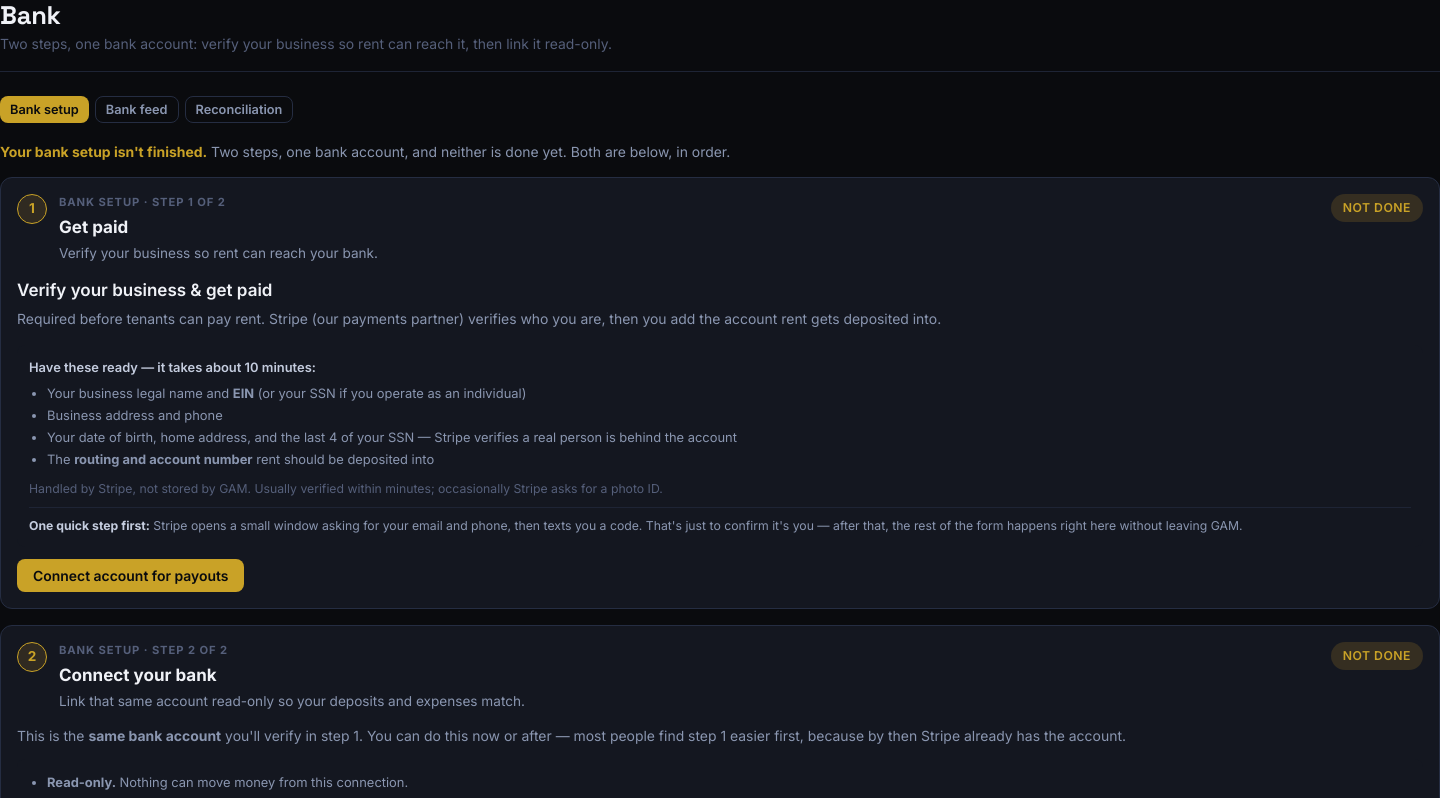
Test case: the chosen tab survives a refresh › writes ?tab=feed even though feed is the default
This screenshot has width=1440, height=798.
What coordinates should you click on to do the following:
click the button "Bank feed"
I would click on:
 (137, 109)
Its box is left=95, top=96, right=178, bottom=123.
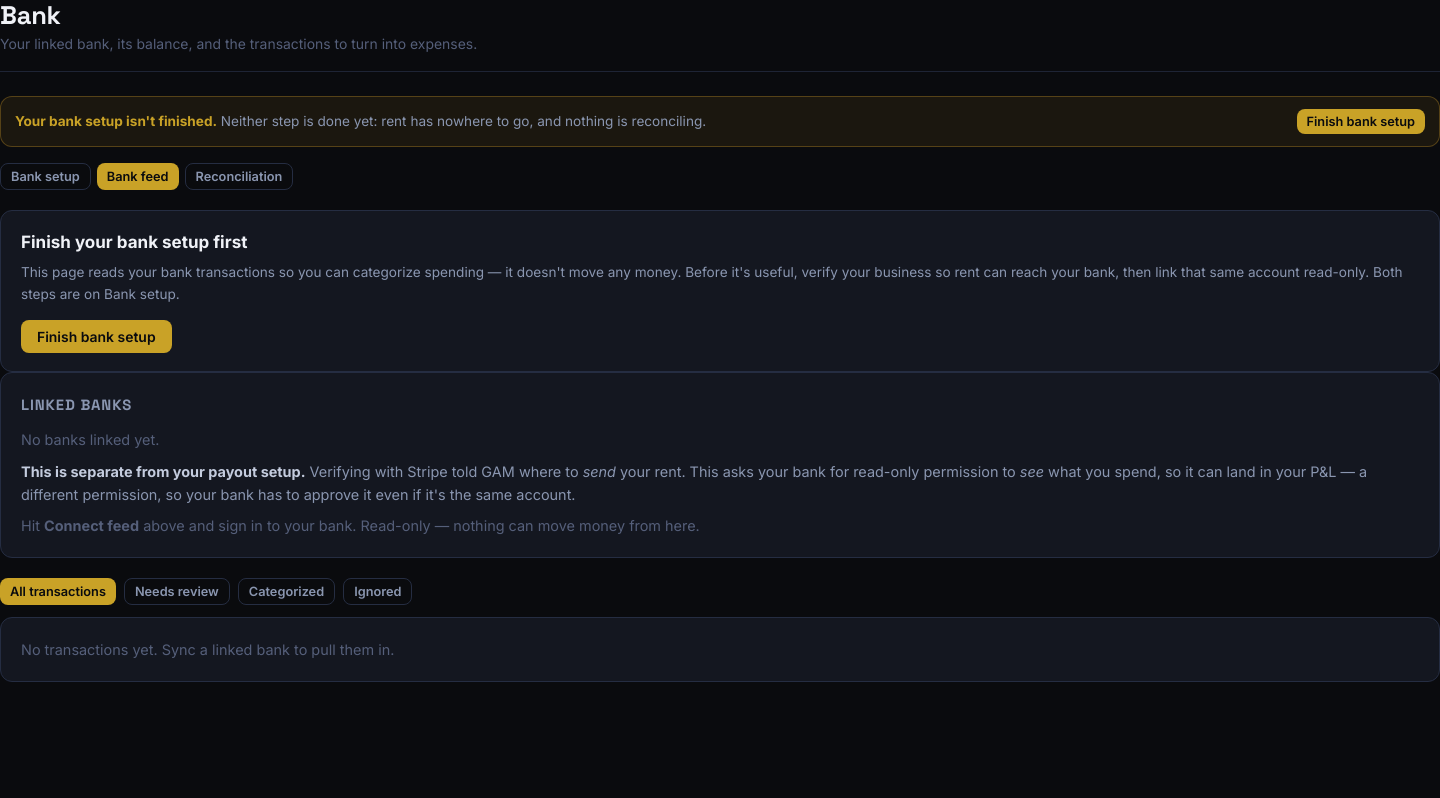
Now the text "Bank setup · step 1 of 2" is gone
